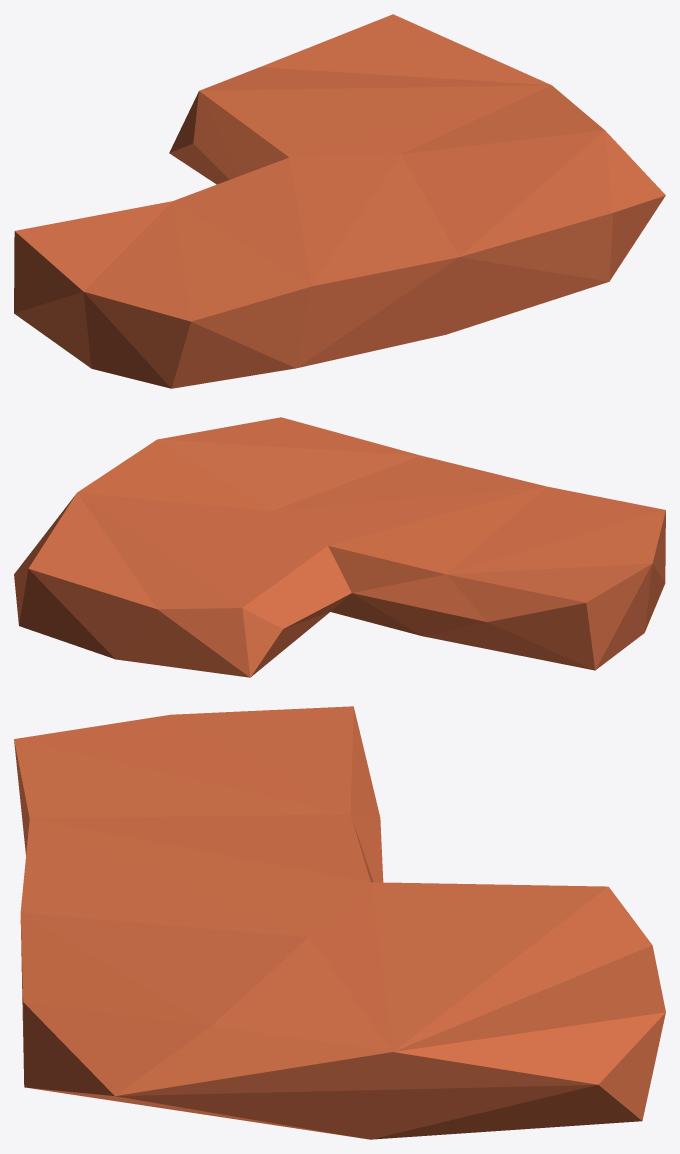
Rendered from Path_tile_1.glb.
The picture shows the model from 3 angles, top to bottom: view 1: azimuth 30°, elevation 25°; view 2: azimuth 150°, elevation 25°; view 3: azimuth 270°, elevation 25°; orthographic projection. The views are drawn at different scales.
Visible parts, largest first — view 1: Path_tile_01; view 2: Path_tile_01; view 3: Path_tile_01.
Boxes of the visible parts, box(x1,y1,x2,y2) form: Path_tile_01: box(14, 14, 665, 388); Path_tile_01: box(14, 417, 665, 677); Path_tile_01: box(14, 706, 665, 1139).
Size of the model in its own units: 0.2548 by 0.0424 by 0.1996.
